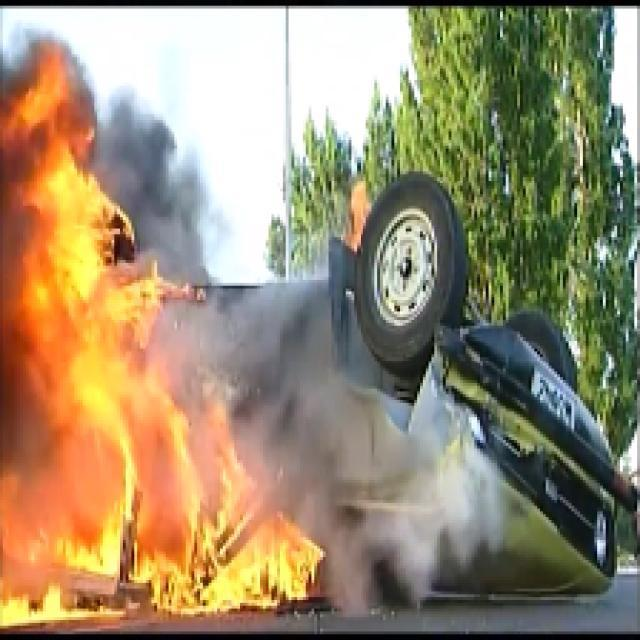Fire: (0, 37, 331, 628)
Smoke: (240, 337, 537, 617)
